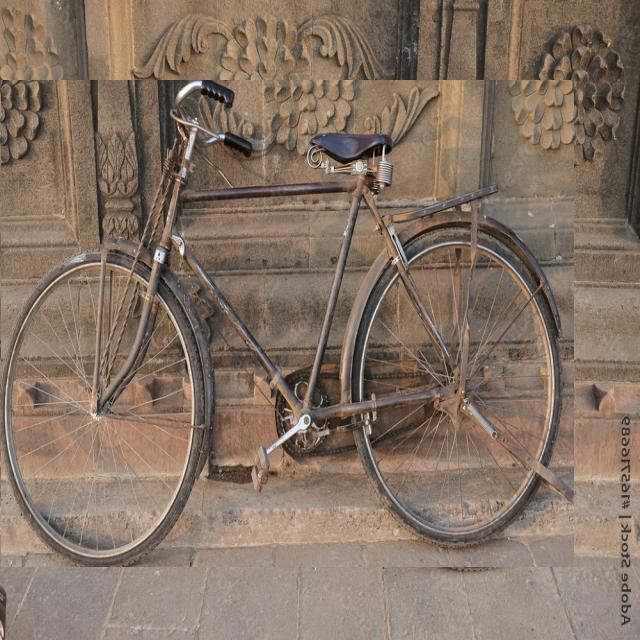bicycle: (0, 80, 574, 567)
